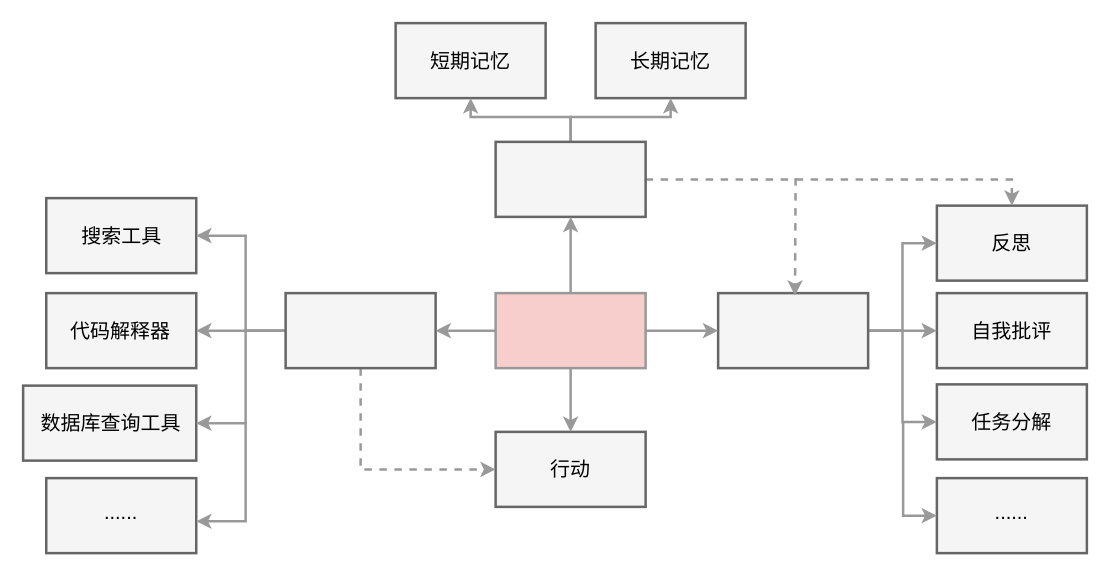
Image size: 1109x575. Some labels were removed from this diagram. The centre of each missing label's shape, as x and y in pixels:
"工具" belongs at point 360,330.
"智能体" belongs at point 570,330.
"规划" belongs at point 792,330.
"记忆" belongs at point 570,179.
